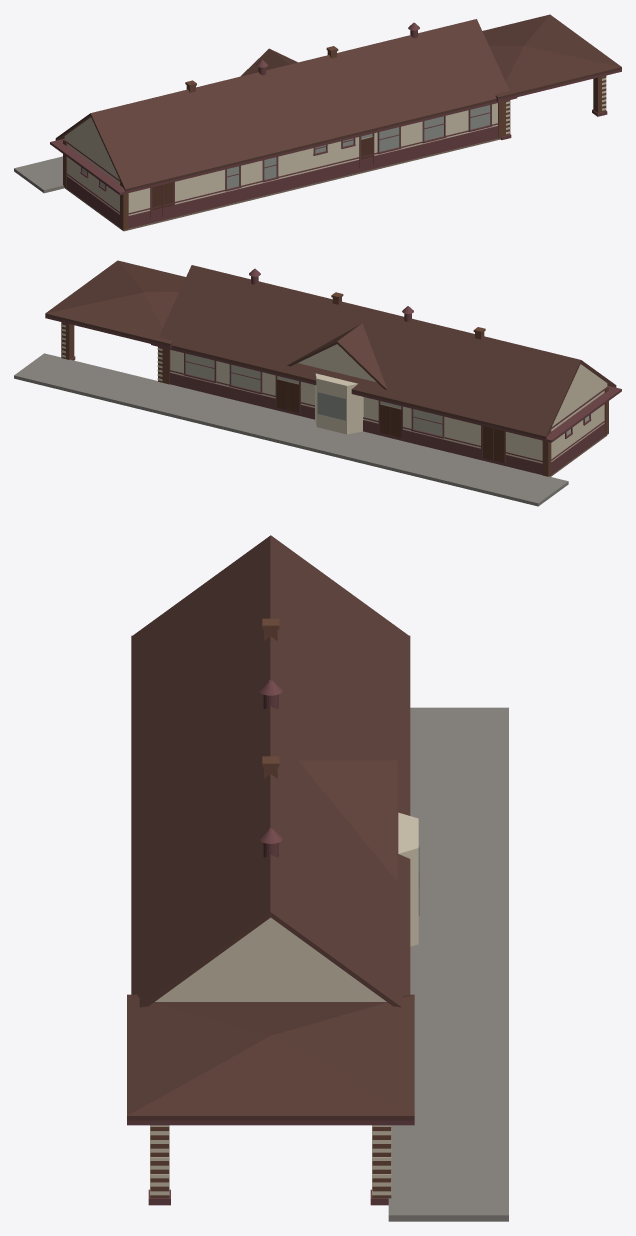
The model's file is Stoughton_Depot.glb.
3 views of the same model, one above another, from view 1: azimuth 30°, elevation 25°; view 2: azimuth 150°, elevation 25°; view 3: azimuth 270°, elevation 25° (orthographic). The views are drawn at different scales.
Visible parts, largest first — view 1: roof, stucco, trim, glass, brick, platform, sash, foundation, doors; view 2: roof, platform, stucco, trim, glass, doors, brick, sash; view 3: roof, platform, stucco, trim, brick.
Boxes of the visible parts, <box> form: roof: <box>55,14,621,191</box>; stucco: <box>64,78,606,215</box>; trim: <box>50,22,621,228</box>; glass: <box>82,105,489,188</box>; brick: <box>63,75,606,230</box>; platform: <box>14,156,64,193</box>; sash: <box>80,104,492,191</box>; foundation: <box>65,138,500,231</box>; doors: <box>152,137,372,210</box>; roof: <box>45,260,616,438</box>; platform: <box>14,353,568,506</box>; stucco: <box>61,324,607,463</box>; trim: <box>45,268,621,474</box>; glass: <box>185,354,589,435</box>; doors: <box>277,379,503,462</box>; brick: <box>61,322,608,476</box>; sash: <box>183,353,591,438</box>; roof: <box>127,535,414,1120</box>; platform: <box>388,707,508,1221</box>; stucco: <box>150,812,418,1195</box>; trim: <box>127,635,414,1205</box>; brick: <box>150,1127,391,1198</box>.
Bounding box in the file's own units: 1.47 × 0.2943 × 0.4677.
